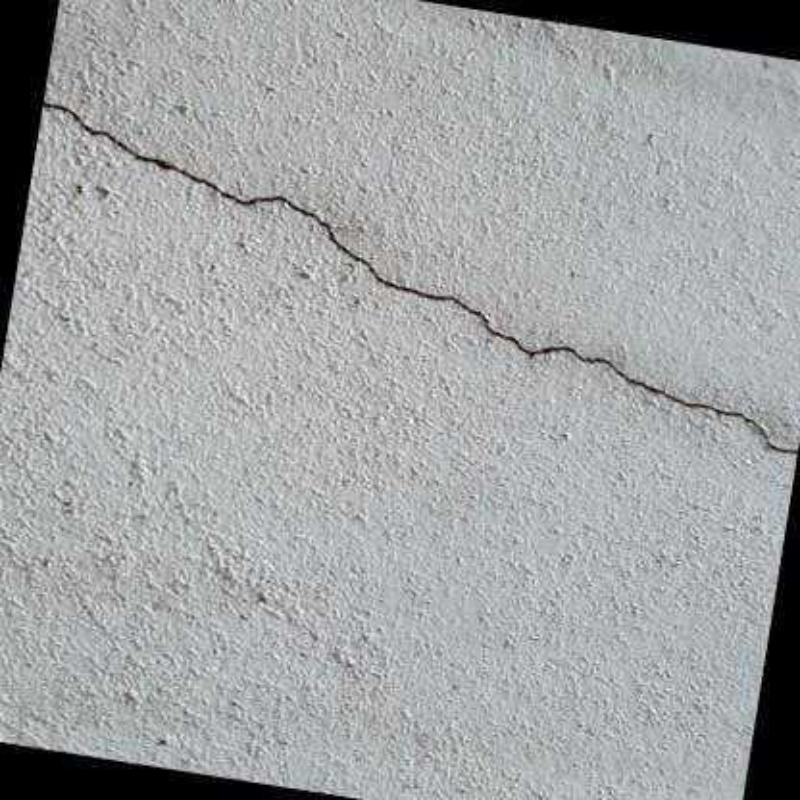pothole: (41, 90, 798, 457)
